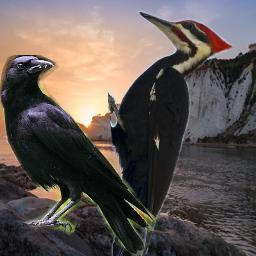Crow: (0, 55, 156, 256)
Woodpecker: (108, 9, 238, 256)
